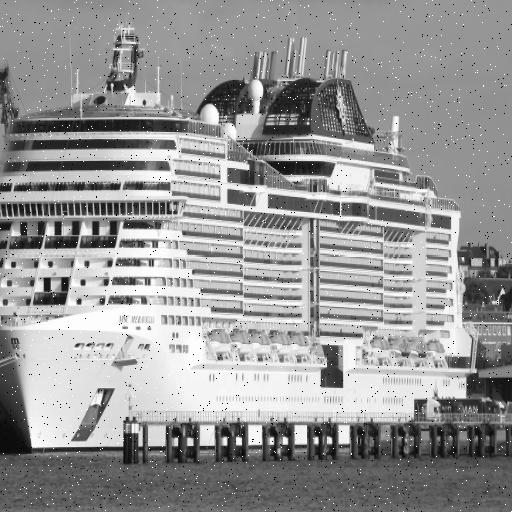cruises: (1, 12, 480, 455)
